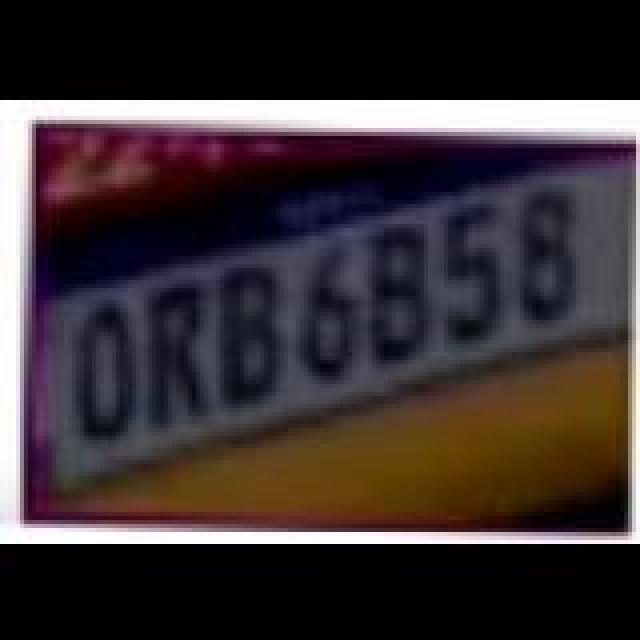5: (442, 202, 510, 342)
6: (298, 242, 366, 382)
8: (514, 188, 582, 324)
B: (216, 264, 288, 408), (366, 222, 434, 362)
O: (74, 296, 142, 440)
R: (140, 278, 212, 426)
